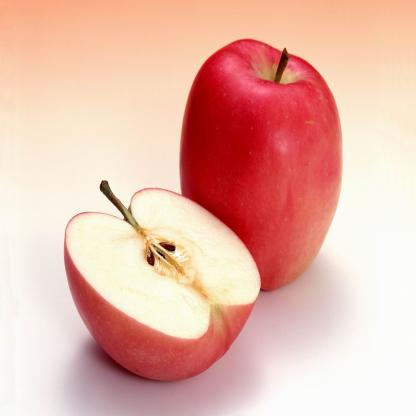apple: (172, 40, 341, 298)
